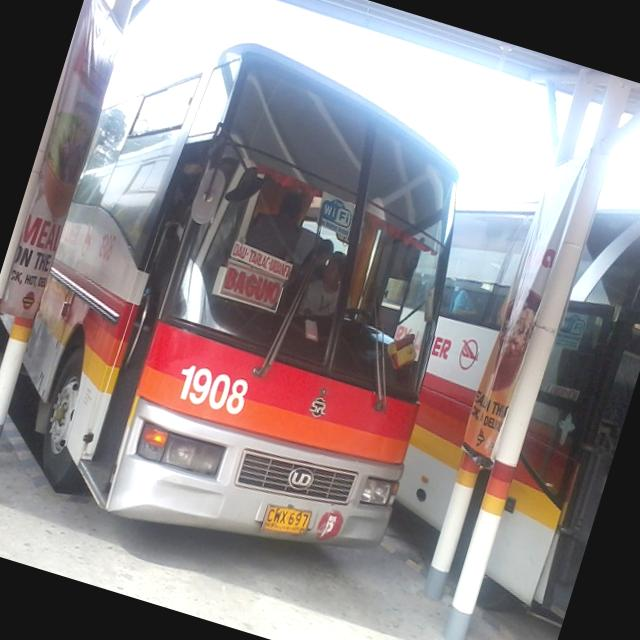Vehicle: (0, 7, 509, 593), (346, 139, 640, 628)
